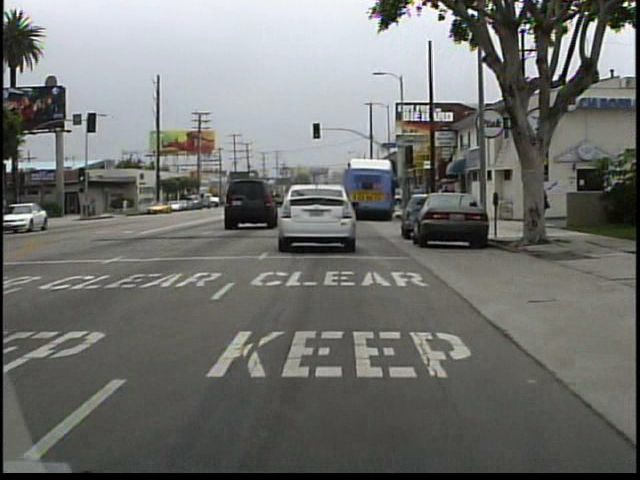person: (521, 175, 540, 231), (532, 177, 549, 233), (122, 196, 133, 215)
